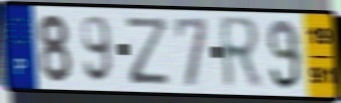7: (172, 14, 210, 89)
8: (36, 12, 74, 85)
9: (266, 18, 303, 93), (80, 14, 115, 84)
R: (217, 14, 264, 93)
Z: (124, 14, 172, 87)
